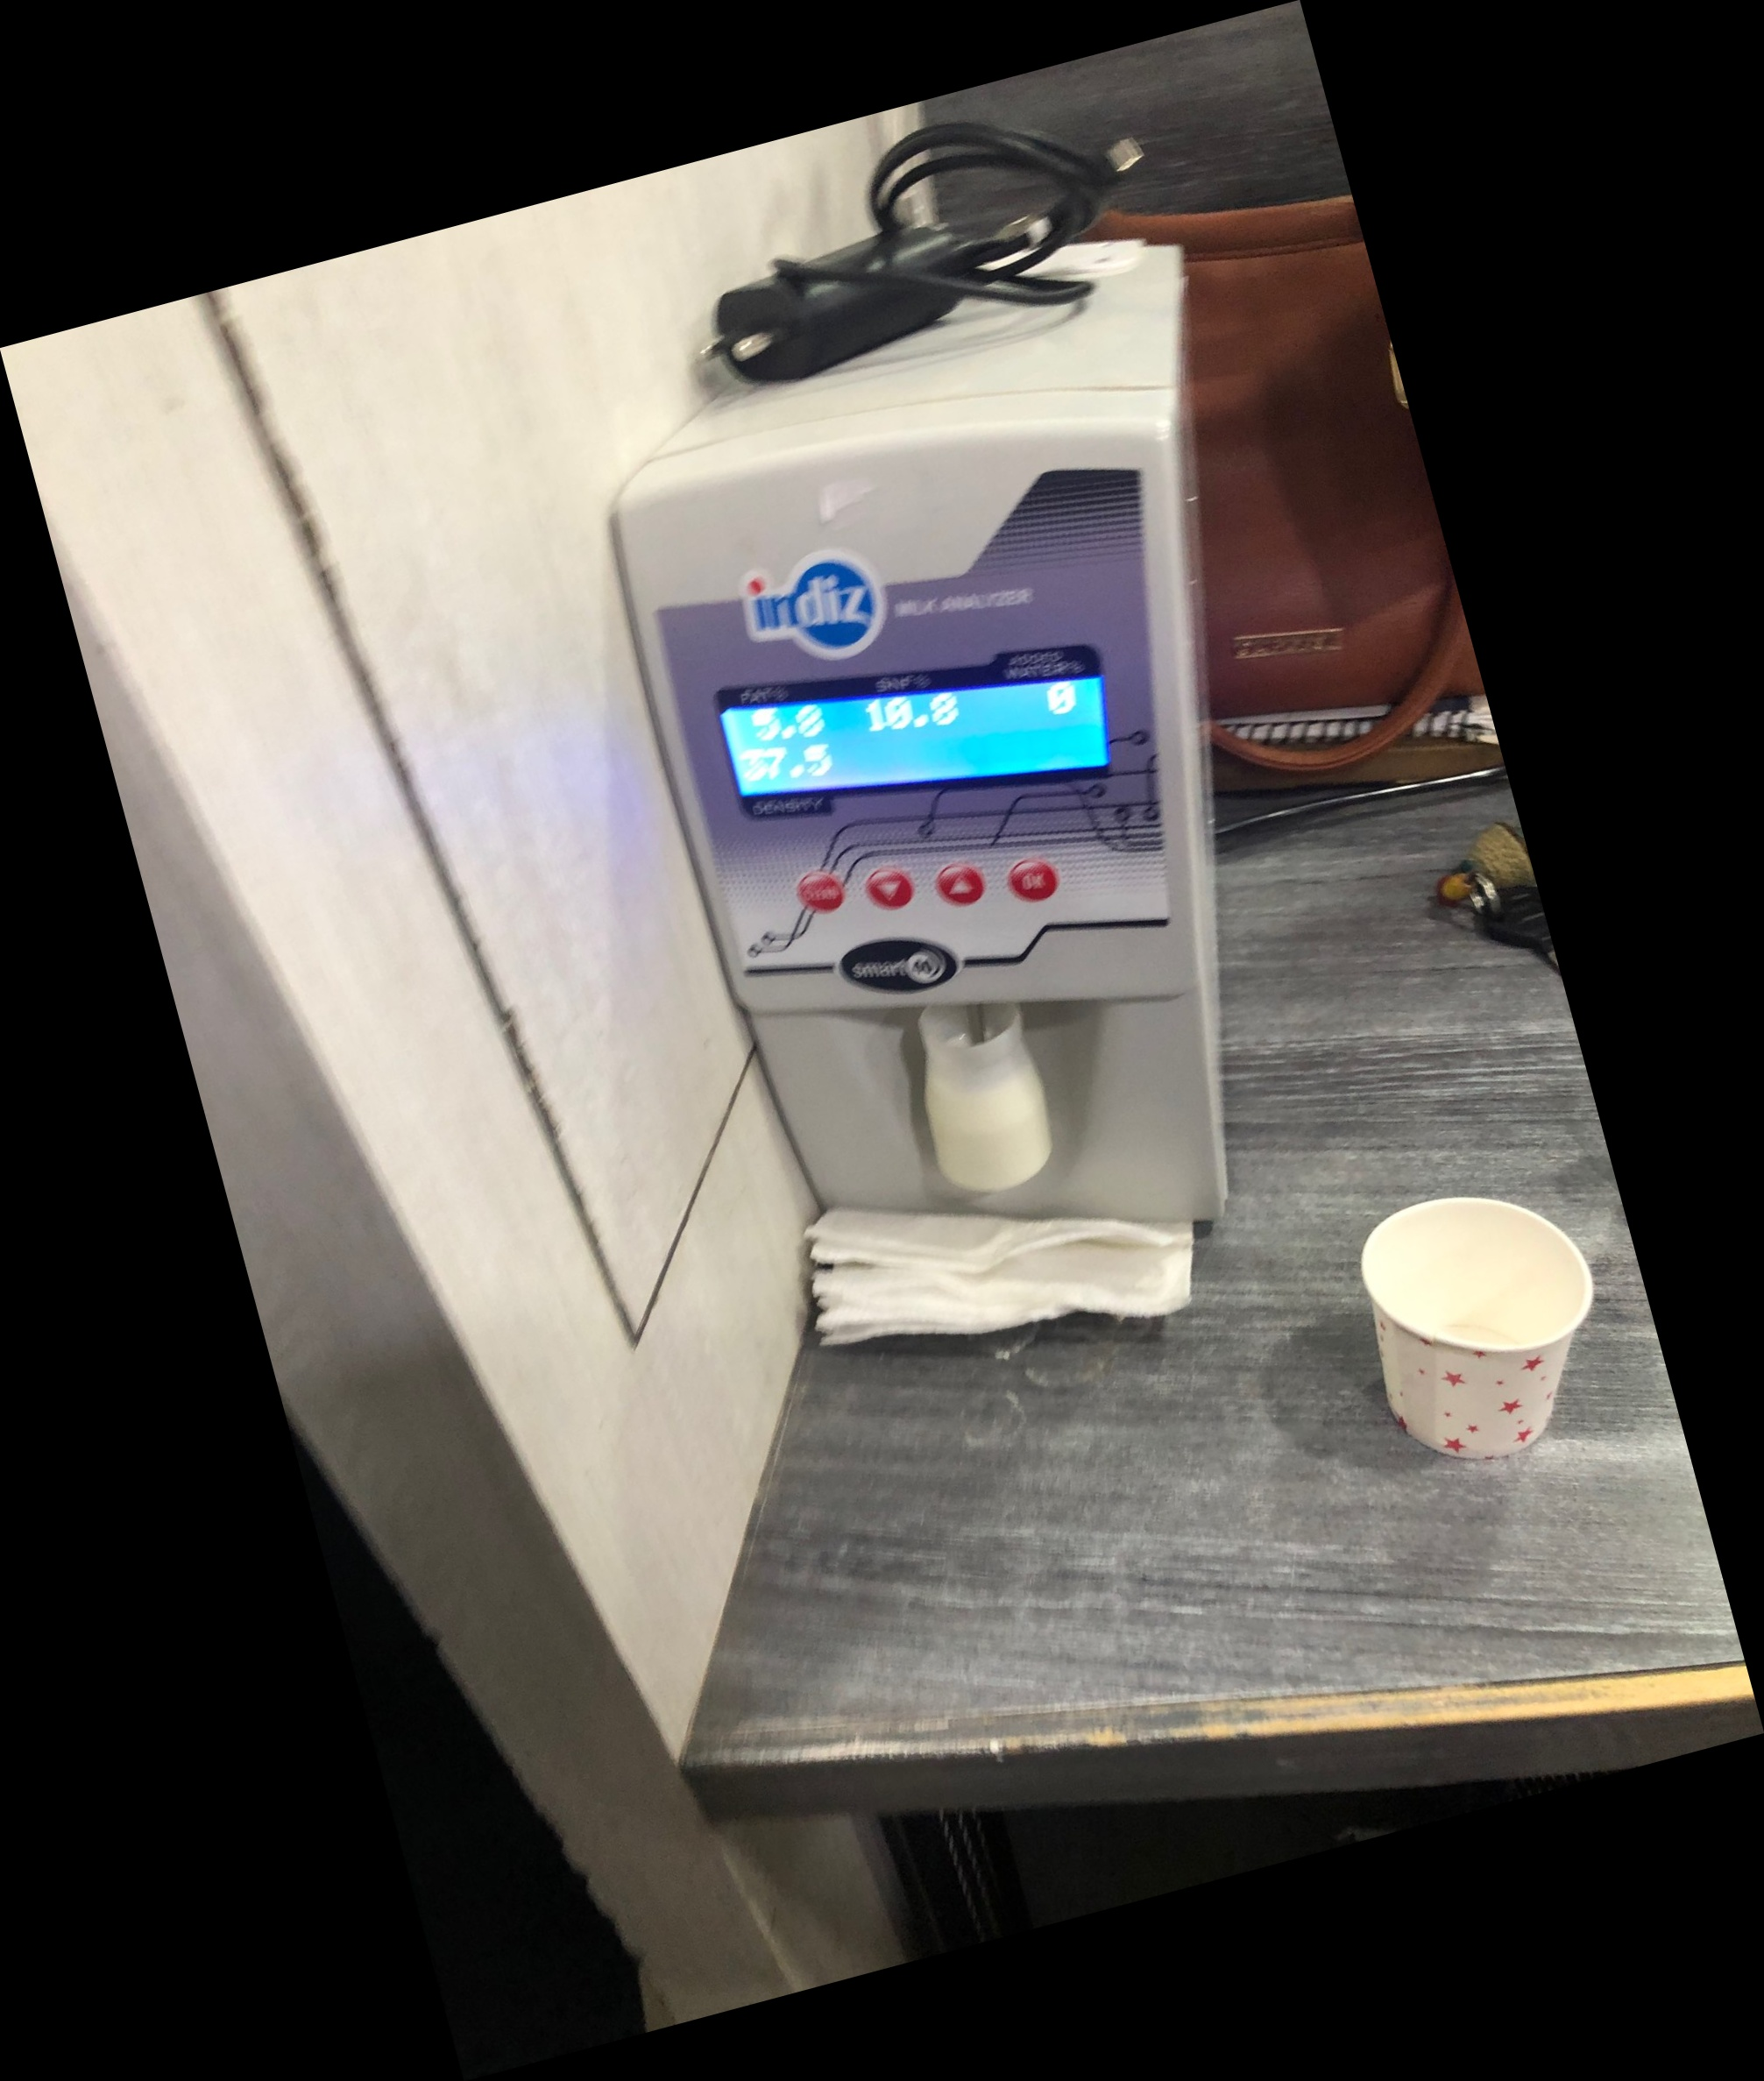lcd: (702, 634, 1120, 833)
